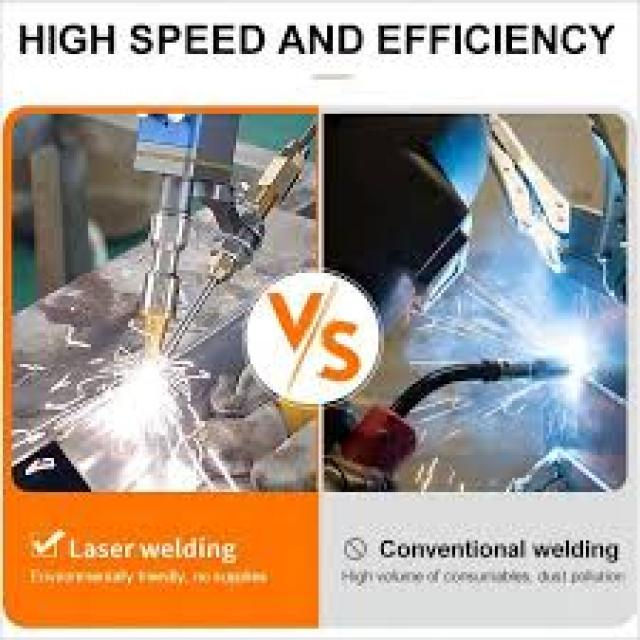welding: (120, 354, 181, 435), (545, 330, 590, 384)
